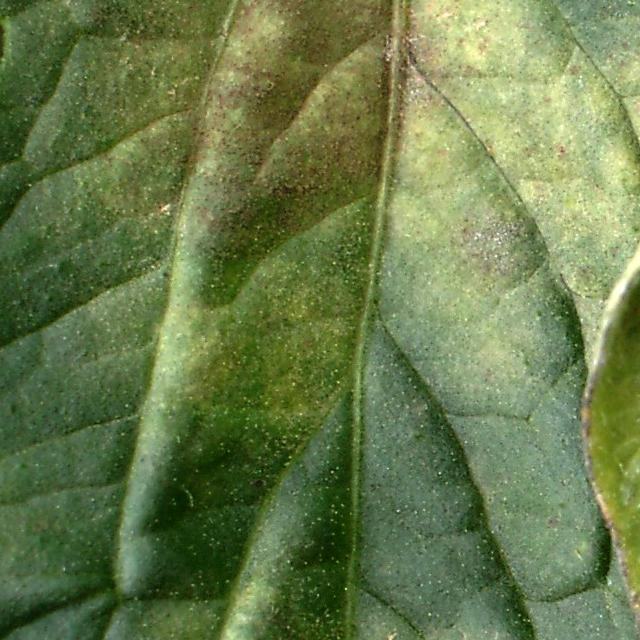Tomato mold leaf: (0, 0, 640, 640), (590, 0, 640, 640)
